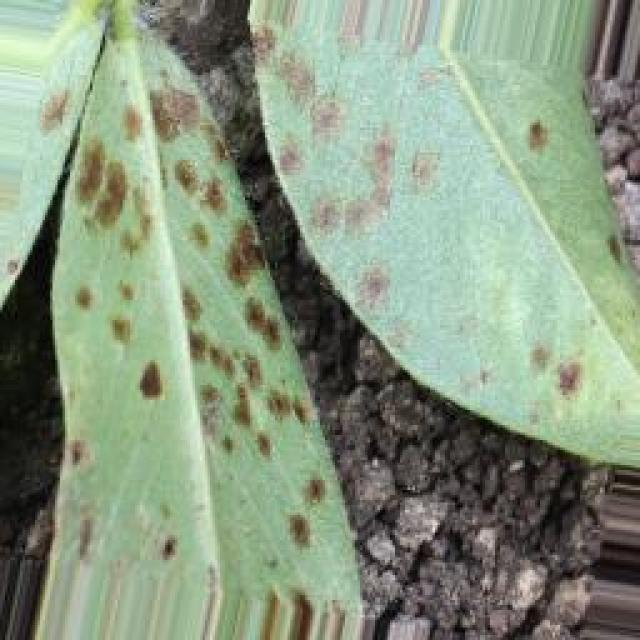Whitefly: (0, 0, 602, 601)
